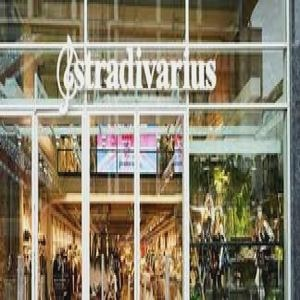stradivarius: (196, 18, 246, 53)
